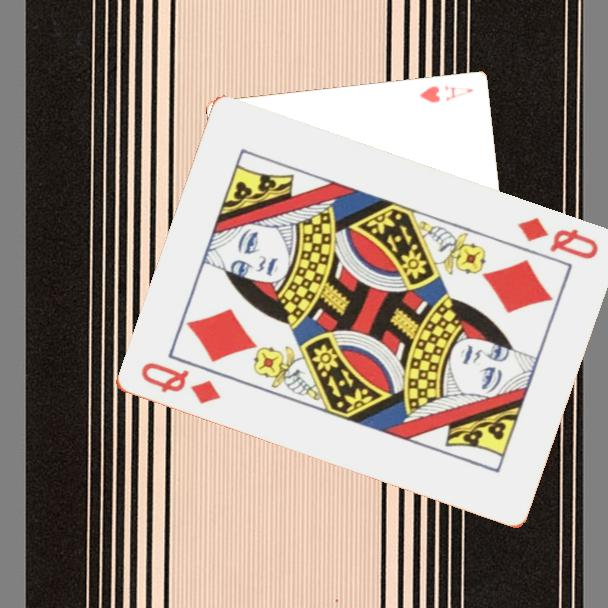d12: (513, 213, 601, 263), (136, 358, 223, 408)
h01: (416, 81, 477, 105)
